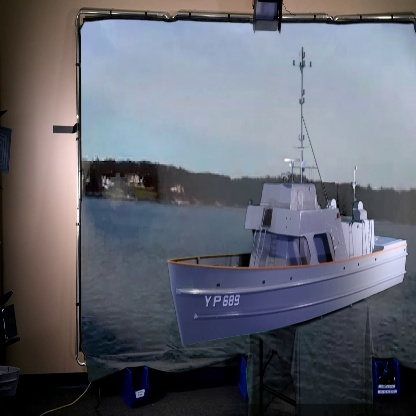YP689: (167, 50, 408, 350)
